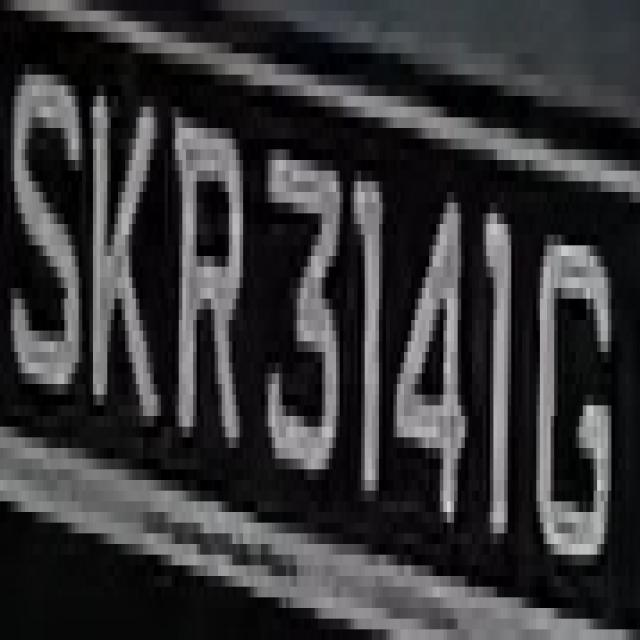1: (343, 117, 386, 523), (479, 160, 519, 533)
3: (264, 118, 340, 470)
4: (382, 149, 476, 523)
G: (532, 181, 618, 587)
K: (78, 64, 164, 469)
R: (161, 85, 247, 491)
S: (0, 43, 86, 416)
